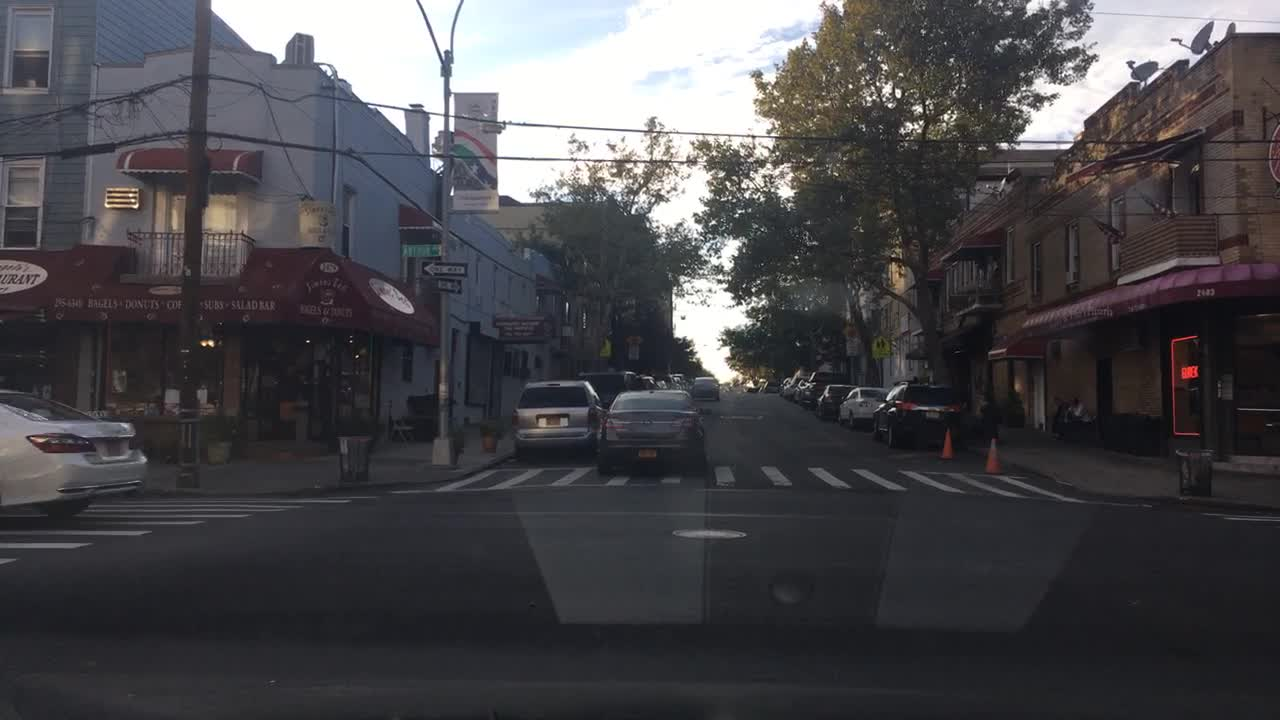car: (0, 387, 148, 516), (598, 390, 703, 476), (866, 380, 971, 450), (515, 378, 605, 455), (835, 387, 892, 429), (581, 371, 639, 407), (797, 370, 849, 409), (815, 384, 855, 423), (687, 372, 720, 402), (784, 370, 810, 399), (665, 376, 687, 392), (640, 373, 661, 389), (652, 376, 670, 393), (761, 378, 780, 392), (776, 376, 792, 392), (681, 372, 693, 392), (742, 379, 759, 391), (720, 379, 733, 391)
person: (1059, 395, 1090, 426)
traffic sign: (417, 263, 468, 277), (398, 244, 440, 257), (872, 334, 893, 358), (435, 278, 462, 294), (625, 335, 638, 360), (558, 325, 578, 336)
